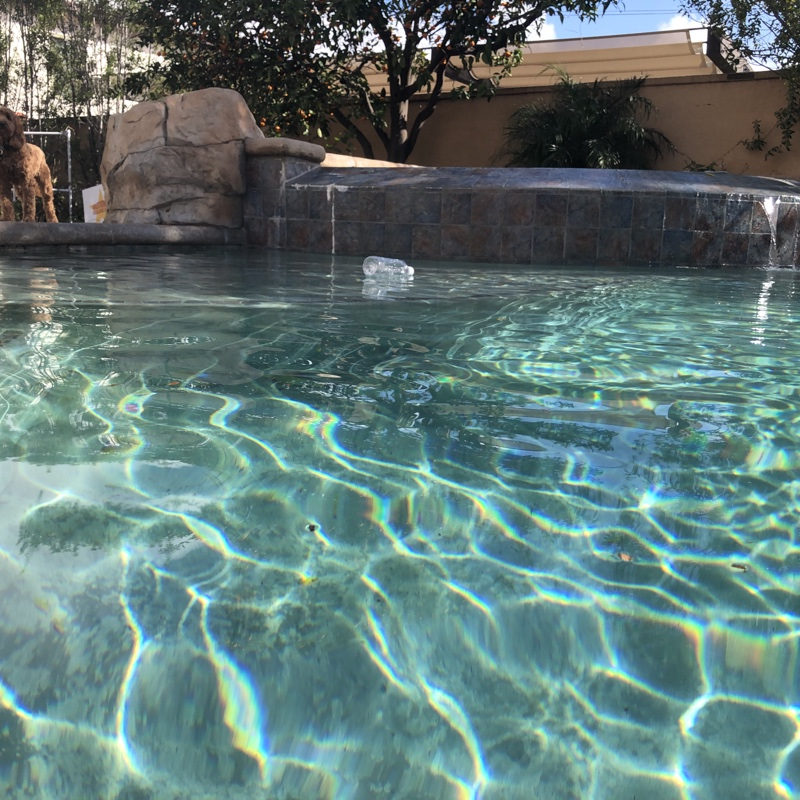Plastic Bottle: (361, 254, 416, 286)
